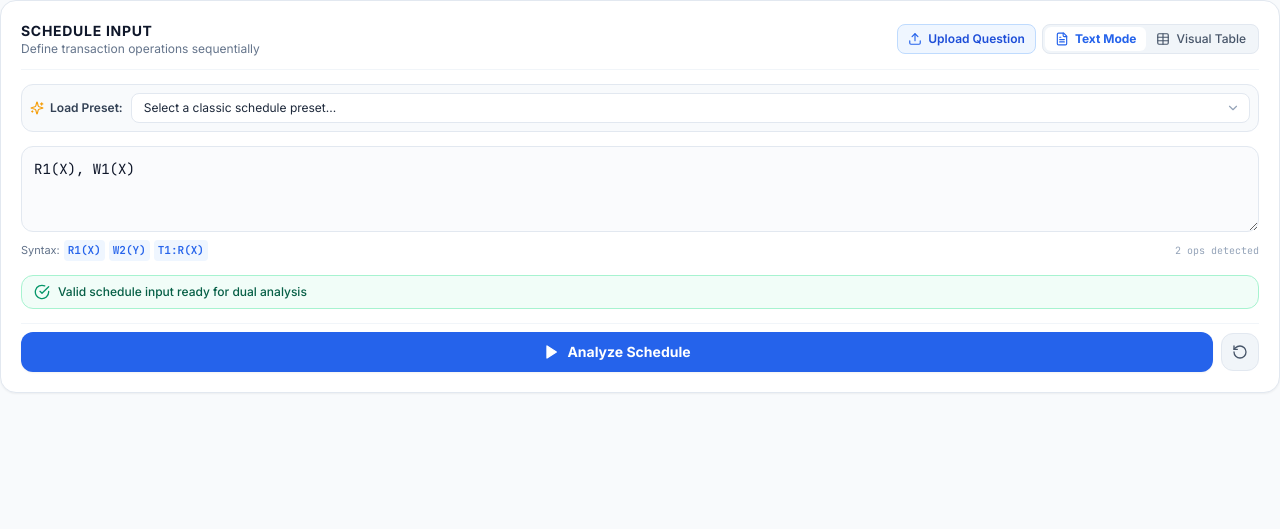
Test: ScheduleEditor Component › switches between Text Mode and Visual Table Mode
Click the button "Visual Table".
click(1201, 39)  # box [1146,27,1256,51]
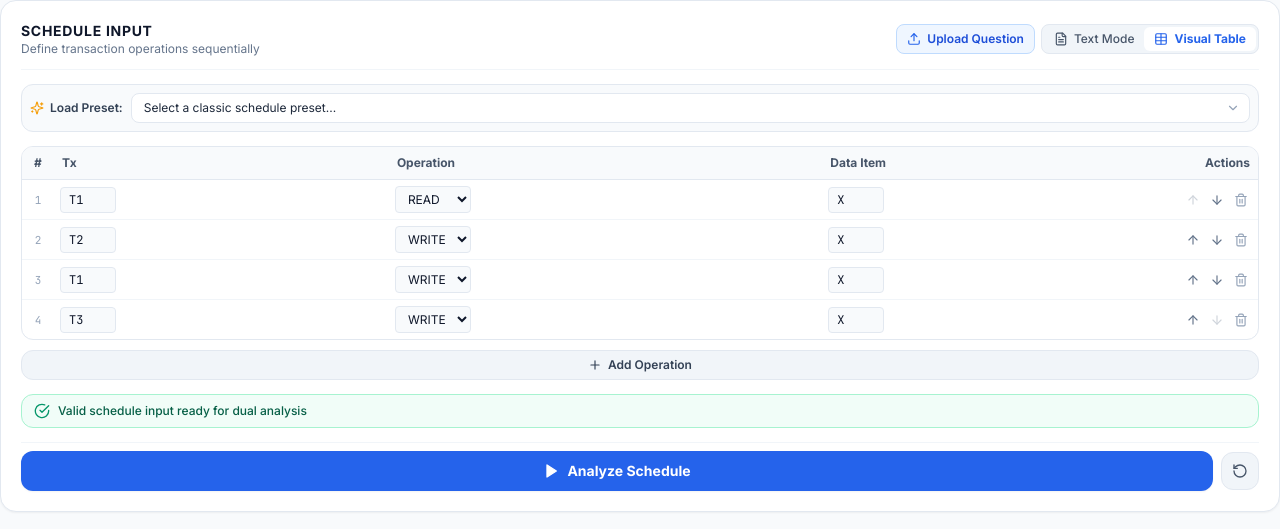
expect the button "Add Operation" is shown: met, box [21,350,1259,380]
